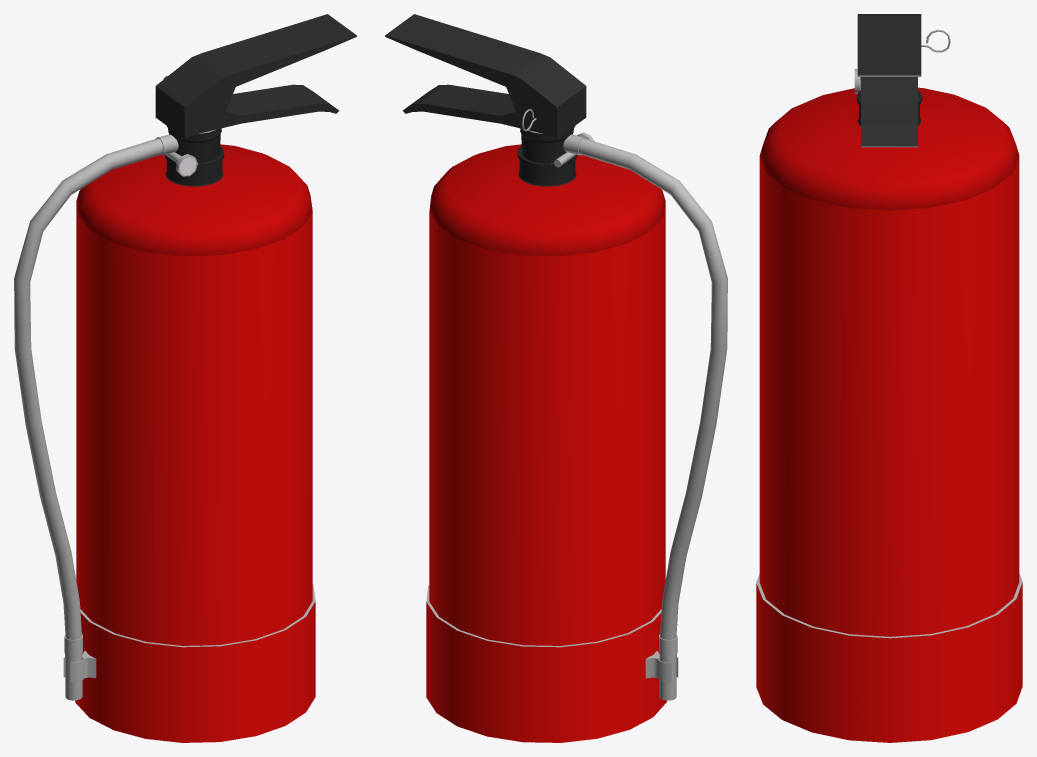
File: Extincteur.fbx
The picture shows the model from 3 angles, left to right: view 1: azimuth 30°, elevation 25°; view 2: azimuth 150°, elevation 25°; view 3: azimuth 270°, elevation 25°; orthographic projection. The views are drawn at different scales.
Visible parts, largest first — view 1: fire_extinguisher; view 2: fire_extinguisher; view 3: fire_extinguisher.
Boxes of the visible parts, <box> form: fire_extinguisher: <box>14,14,356,742</box>; fire_extinguisher: <box>385,14,727,742</box>; fire_extinguisher: <box>756,14,1022,742</box>.
Size of the model in its own units: 54.13 by 99.77 by 34.92.
